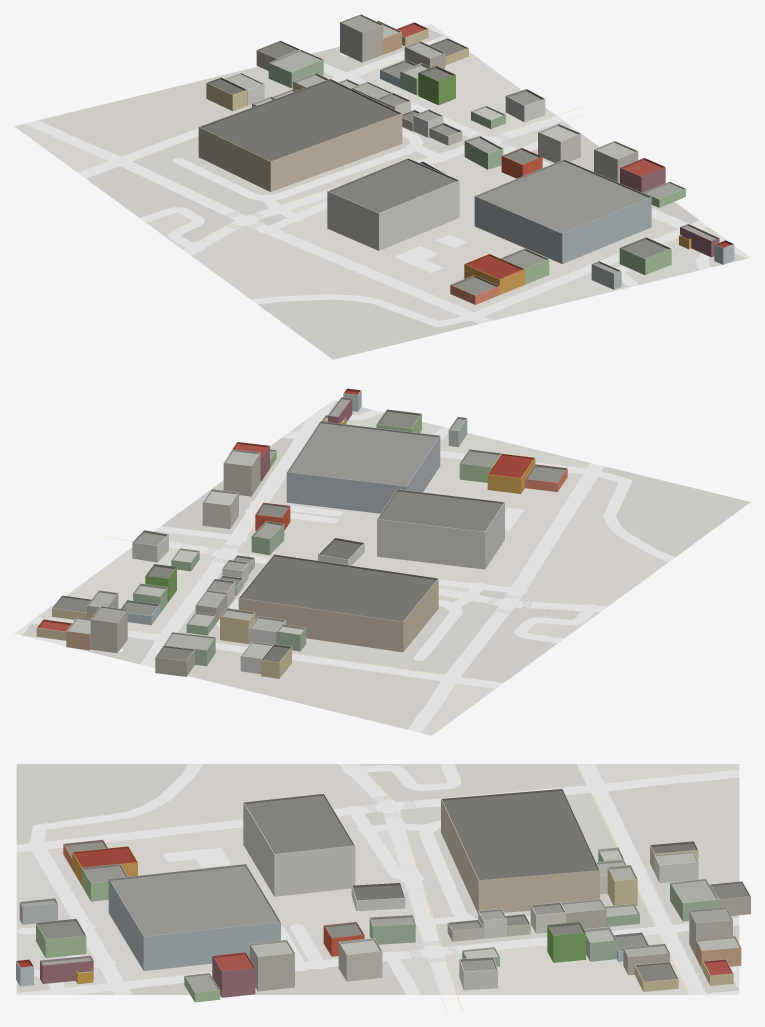
The picture shows the model from 3 angles, top to bottom: view 1: azimuth 30°, elevation 25°; view 2: azimuth 150°, elevation 25°; view 3: azimuth 270°, elevation 25°; orthographic projection. The views are drawn at different scales.
Visible parts, largest first — view 1: ground, walls, roofs, asphalt, grass, markings; view 2: ground, roofs, walls, asphalt, markings; view 3: ground, roofs, walls, asphalt, markings, grass.
Boxes of the visible parts, box(x1,y1,x2,y2) form: ground: box(14, 26, 746, 359); walls: box(198, 22, 734, 304); roofs: box(199, 14, 733, 295); asphalt: box(24, 24, 750, 326); grass: box(394, 234, 466, 272); markings: box(35, 37, 742, 320); ground: box(22, 401, 750, 735); roofs: box(37, 388, 567, 662); walls: box(36, 390, 567, 678); asphalt: box(14, 400, 674, 732); markings: box(44, 405, 595, 729); ground: box(16, 764, 739, 994); roofs: box(16, 788, 750, 992); walls: box(16, 799, 750, 1002); asphalt: box(16, 764, 739, 994); markings: box(16, 768, 736, 1012); grass: box(163, 847, 230, 867).
Size of what is drawn, in the model's own units: 204 by 16.2 by 255.
